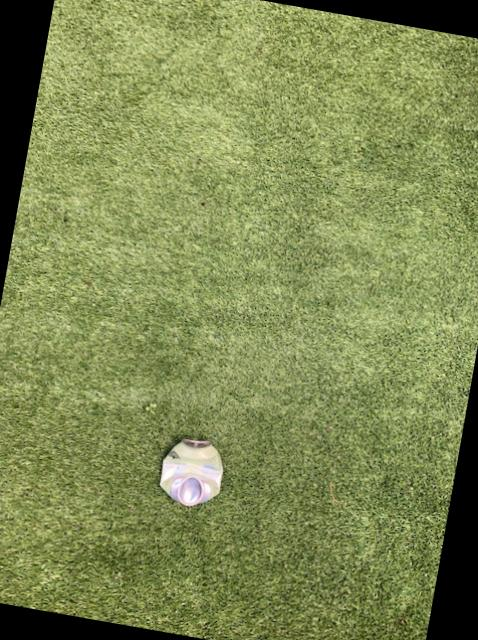metal: (158, 436, 221, 503)
